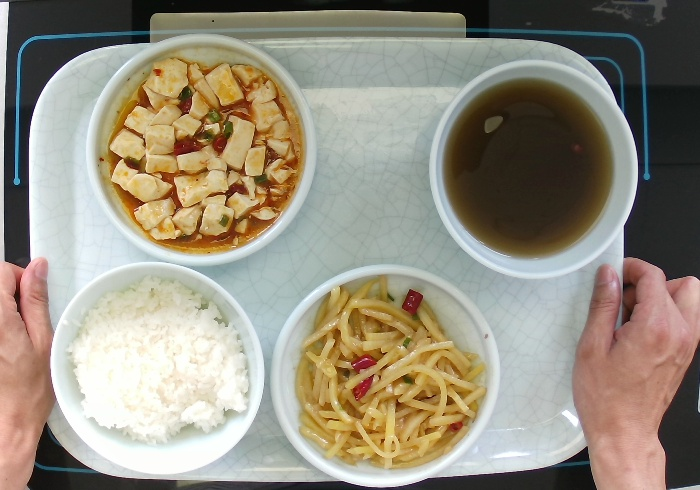JYsf-Fan_Wan: (47, 258, 267, 476), (427, 57, 639, 280)
JYsf-Xiao_Yuan_Pan: (83, 32, 320, 267), (267, 262, 501, 490)
